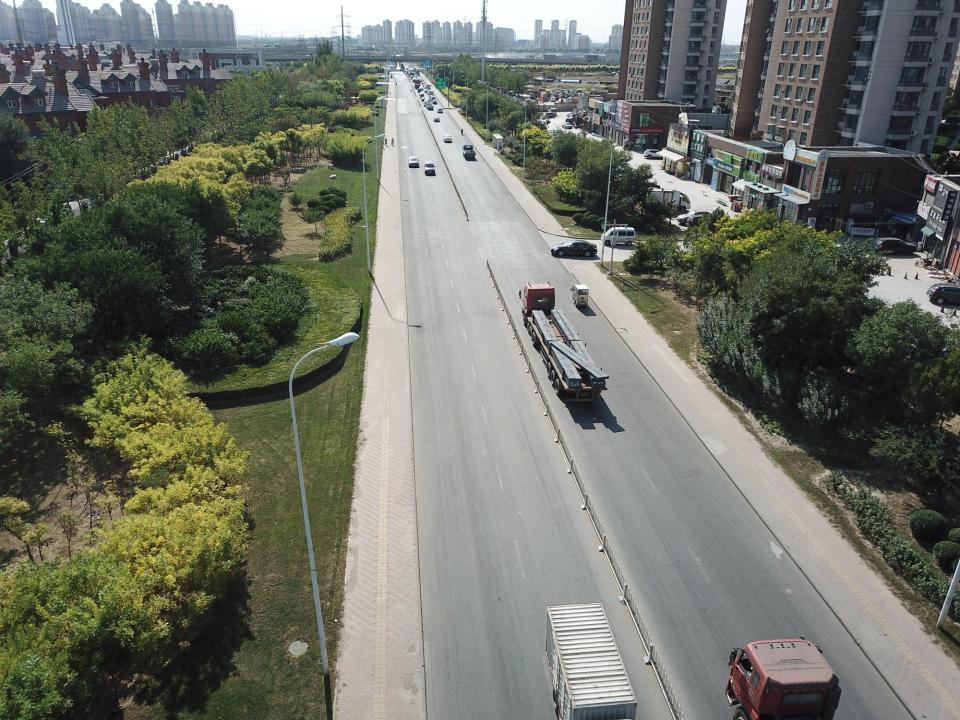car: (550, 240, 597, 257), (408, 156, 419, 167), (562, 122, 572, 129), (432, 115, 440, 122), (443, 135, 452, 141), (566, 113, 578, 117), (432, 99, 438, 104), (423, 98, 428, 104), (420, 97, 426, 102), (550, 97, 556, 102), (378, 54, 384, 58), (418, 92, 423, 96), (424, 88, 428, 93), (371, 55, 377, 58), (427, 91, 431, 95), (419, 86, 423, 90), (412, 78, 416, 82), (422, 82, 426, 85), (419, 78, 422, 81), (424, 86, 428, 88), (422, 84, 426, 86), (393, 65, 396, 67)
truck: (545, 602, 642, 720), (518, 282, 607, 402), (645, 188, 690, 213), (462, 144, 476, 159), (426, 102, 434, 110), (548, 108, 557, 115), (414, 80, 420, 88), (428, 90, 434, 97), (554, 93, 560, 100), (426, 84, 431, 90)
van: (926, 283, 960, 305), (873, 238, 916, 254), (601, 227, 635, 246), (686, 214, 721, 230), (676, 210, 709, 225), (643, 148, 667, 160), (424, 161, 436, 174), (566, 117, 574, 125), (569, 114, 579, 120), (545, 112, 555, 117), (436, 107, 443, 113), (430, 97, 436, 102), (424, 100, 428, 106), (420, 93, 424, 99), (417, 88, 422, 92), (429, 95, 433, 99)
